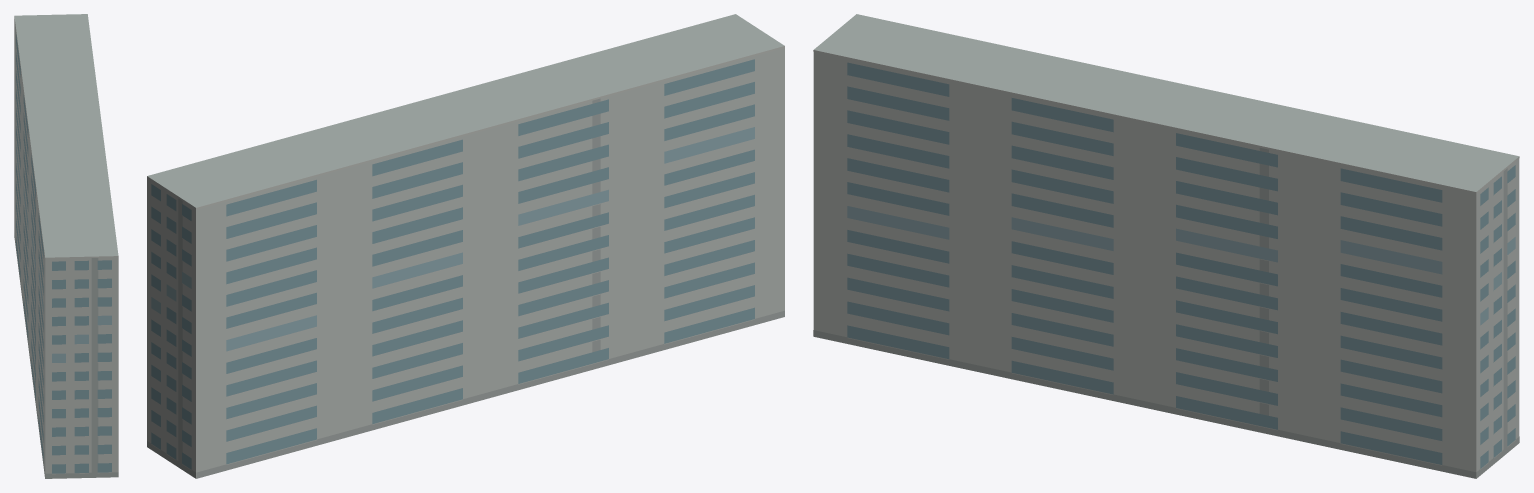
File: residential-9944062a-75c7-4c9e-93b2-61149a5bd715.glb
The picture shows the model from 3 angles, left to right: view 1: azimuth 30°, elevation 25°; view 2: azimuth 150°, elevation 25°; view 3: azimuth 270°, elevation 25°; orthographic projection. The views are drawn at different scales.
Parts seen in each view (by area): view 1: residential-9944062a-75c7-4c9e-93b2-61149a5bd715.tmp; view 2: residential-9944062a-75c7-4c9e-93b2-61149a5bd715.tmp; view 3: residential-9944062a-75c7-4c9e-93b2-61149a5bd715.tmp.
Part boxes in pixels (x1,y1,x2,y2): residential-9944062a-75c7-4c9e-93b2-61149a5bd715.tmp: (14,14,118,478); residential-9944062a-75c7-4c9e-93b2-61149a5bd715.tmp: (147,14,784,478); residential-9944062a-75c7-4c9e-93b2-61149a5bd715.tmp: (813,14,1519,478).
Bounding box in the file's own units: 48.77 × 36.6 × 81.66.
